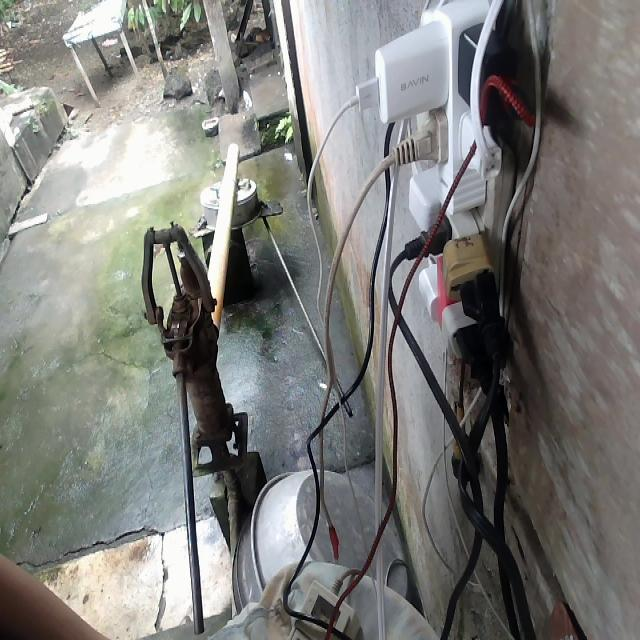-: (356, 2, 524, 406)
